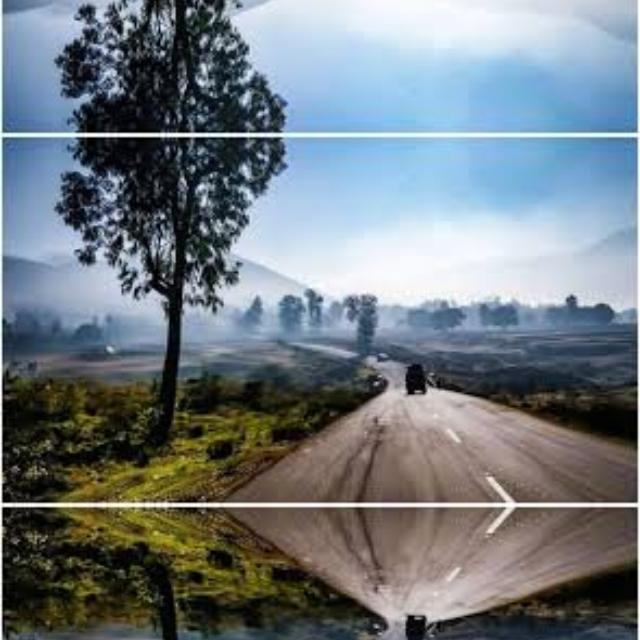obstacle: (100, 165, 200, 468), (100, 0, 200, 102), (100, 541, 200, 640)
